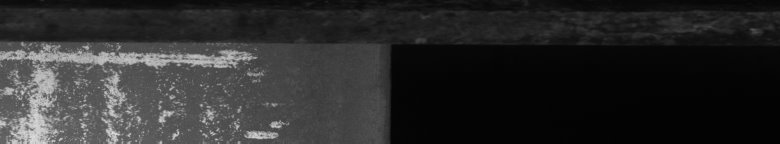kb: (4, 36, 289, 136)
